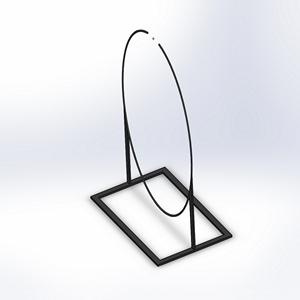circle: (87, 24, 235, 266)
